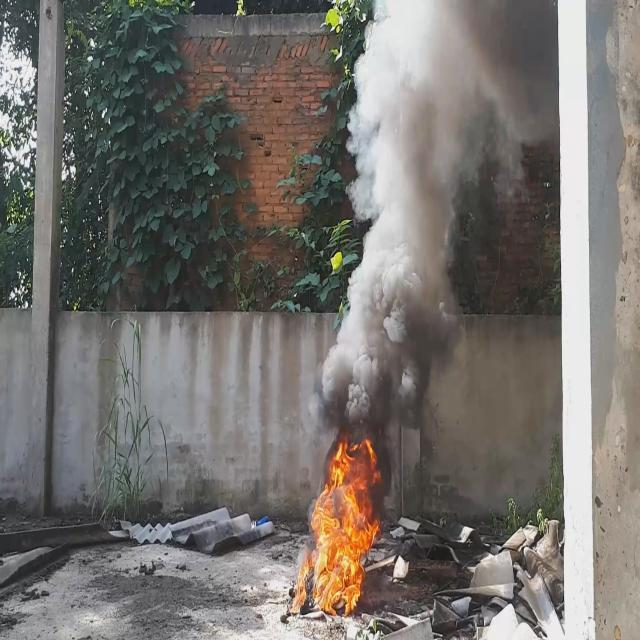Fire: (296, 422, 385, 618)
Smoke: (310, 0, 557, 429)
